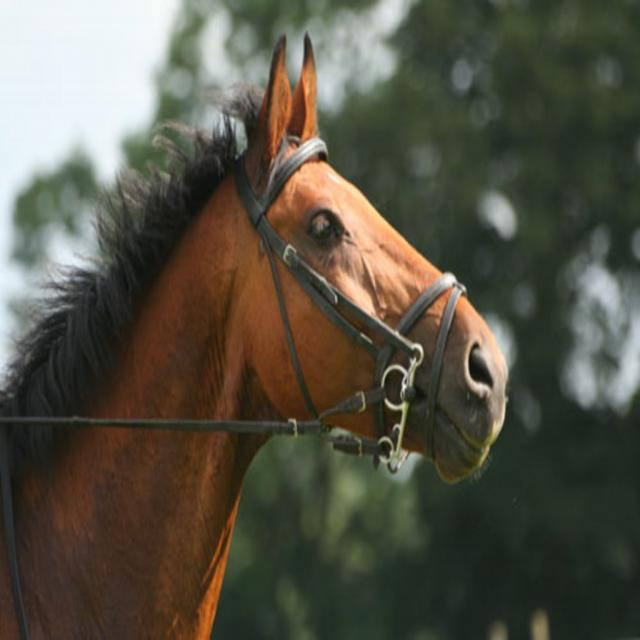Horse: (0, 29, 507, 638)
